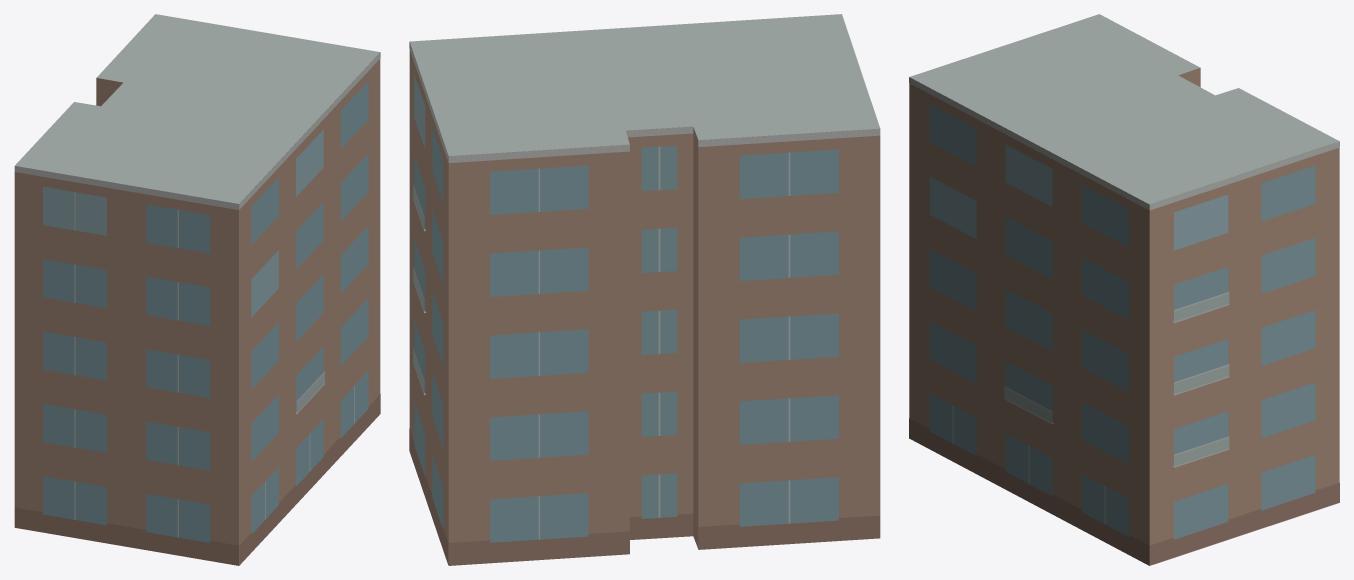
Rendered from survey-upis-32742655.glb.
The picture shows the model from 3 angles, left to right: view 1: azimuth 30°, elevation 25°; view 2: azimuth 150°, elevation 25°; view 3: azimuth 270°, elevation 25°; orthographic projection. The views are drawn at different scales.
Visible parts, largest first — view 1: survey-upis-32742655.tmp; view 2: survey-upis-32742655.tmp; view 3: survey-upis-32742655.tmp.
Boxes of the visible parts, x1,y1,x2,y2 form: survey-upis-32742655.tmp: (14, 14, 380, 565); survey-upis-32742655.tmp: (409, 14, 880, 565); survey-upis-32742655.tmp: (909, 14, 1339, 565).
Size of the model in its own units: 16.26 by 14.38 by 15.54.
